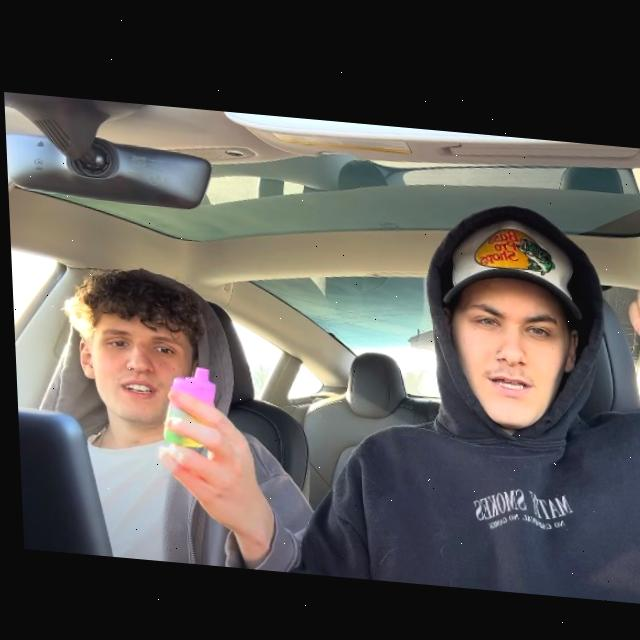vape: (158, 361, 215, 445)
